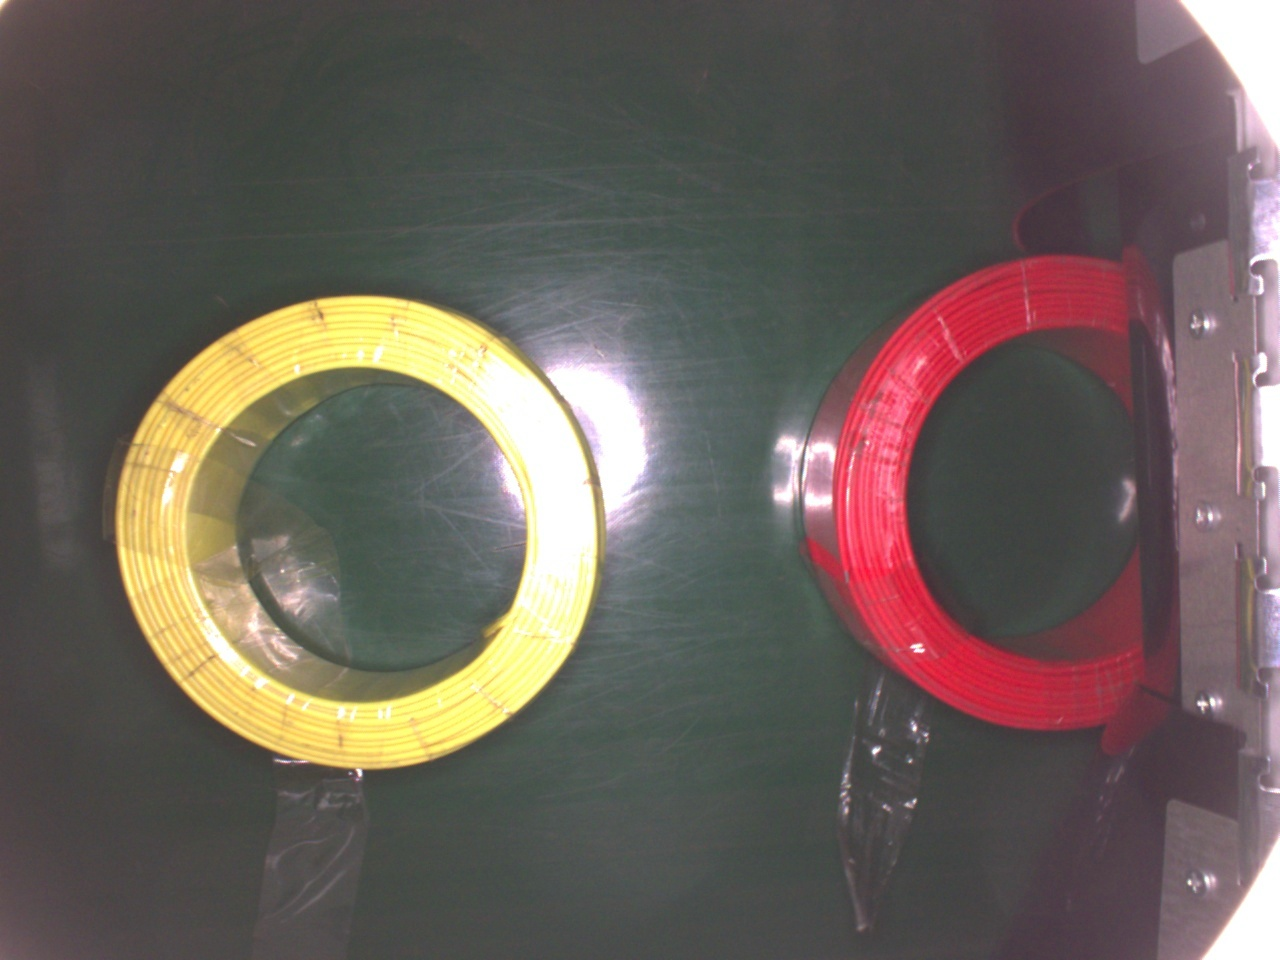red: (793, 255, 1141, 734)
yellow: (114, 291, 605, 782)
